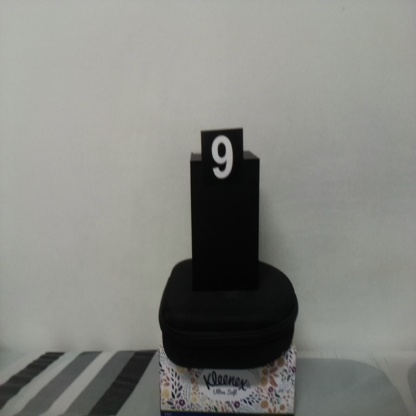id_9: (201, 129, 244, 192)
